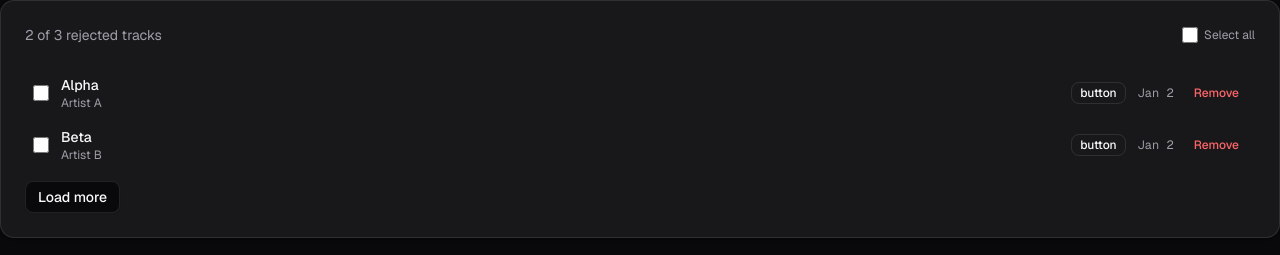
Scenario: DislikesManager › removes a single row through the DELETE route
The image size is (1280, 255).
Expected: the text "Alpha" is shown, [61,76,99,94]
Click the button "Remove" in the row of "Alpha" at (1216, 93), box [1186,79,1247,107]
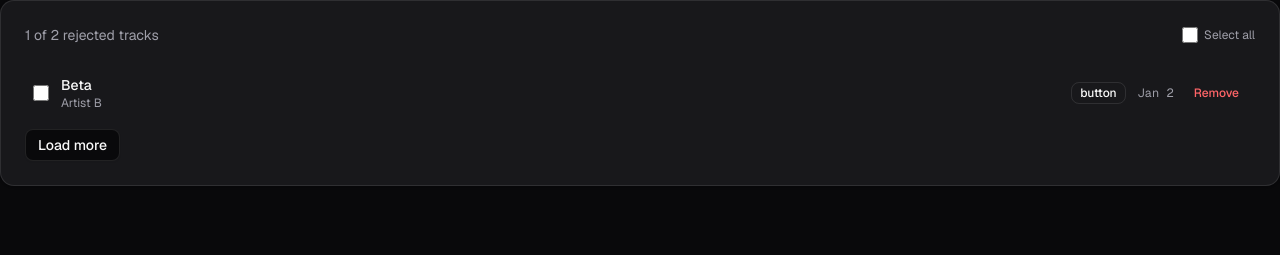
Expected: the text "Beta" is shown, [61,76,92,94]
Now the text "Alpha" is gone
Now the text "1 of 2 rejected tracks" is shown, box [25,25,159,45]
